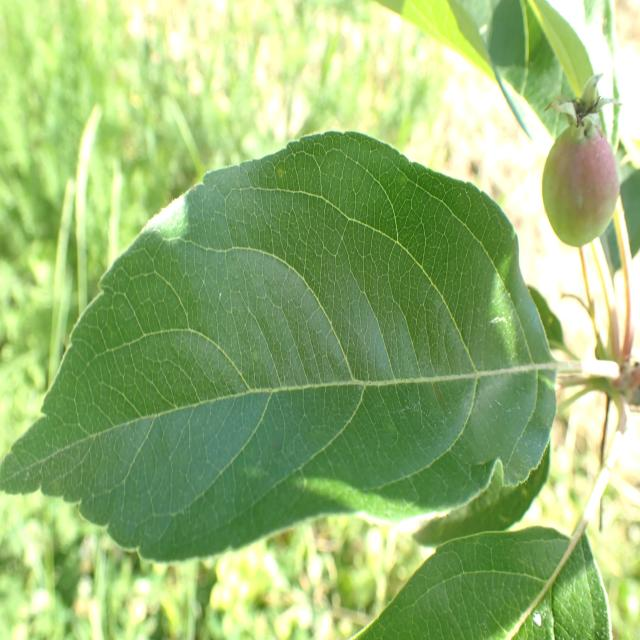healthy: (1, 130, 559, 566), (350, 524, 612, 639), (411, 438, 551, 546)
